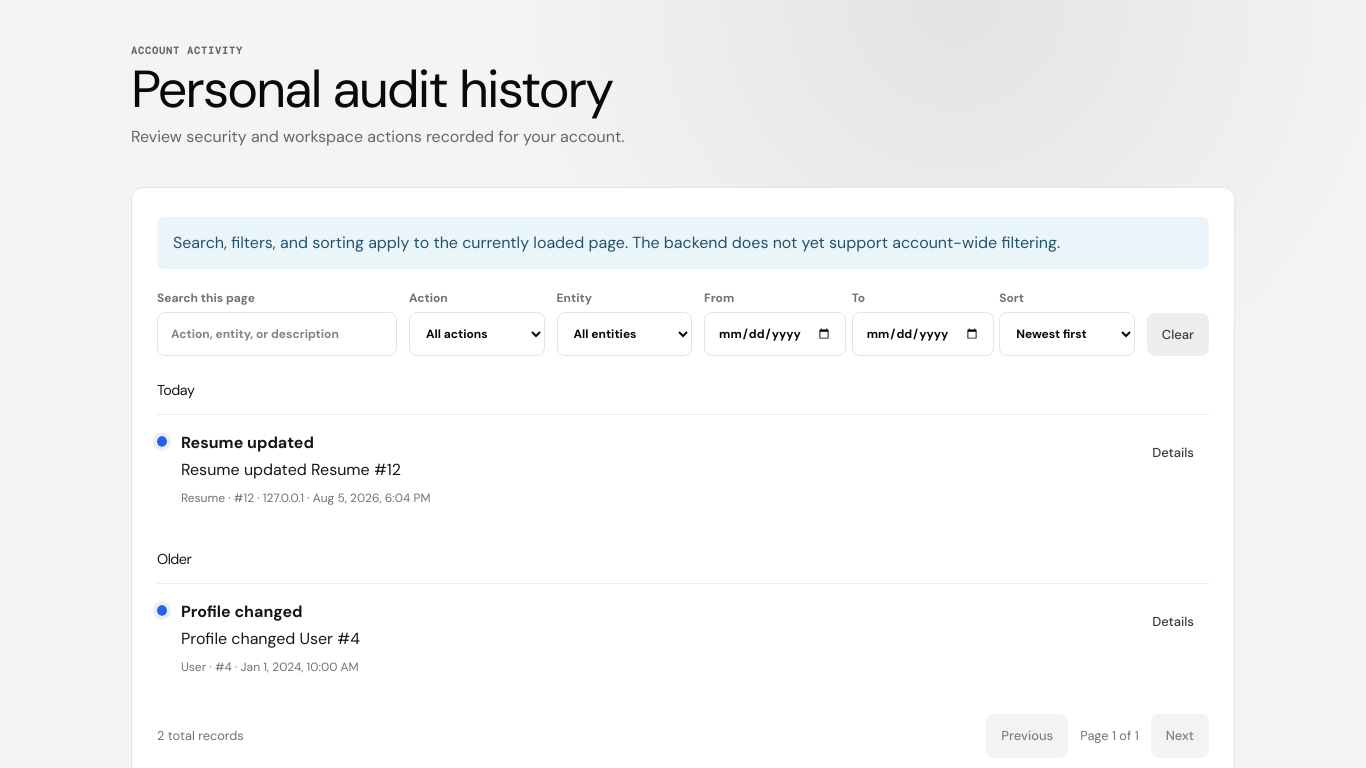
Test: personal audit history › filters only the currently loaded page and reports no matches
Step 1. Type "missing" into the search field with placeholder "Action, entity, or description" → (277, 334), box top-left (157, 312), bottom-right (397, 356)
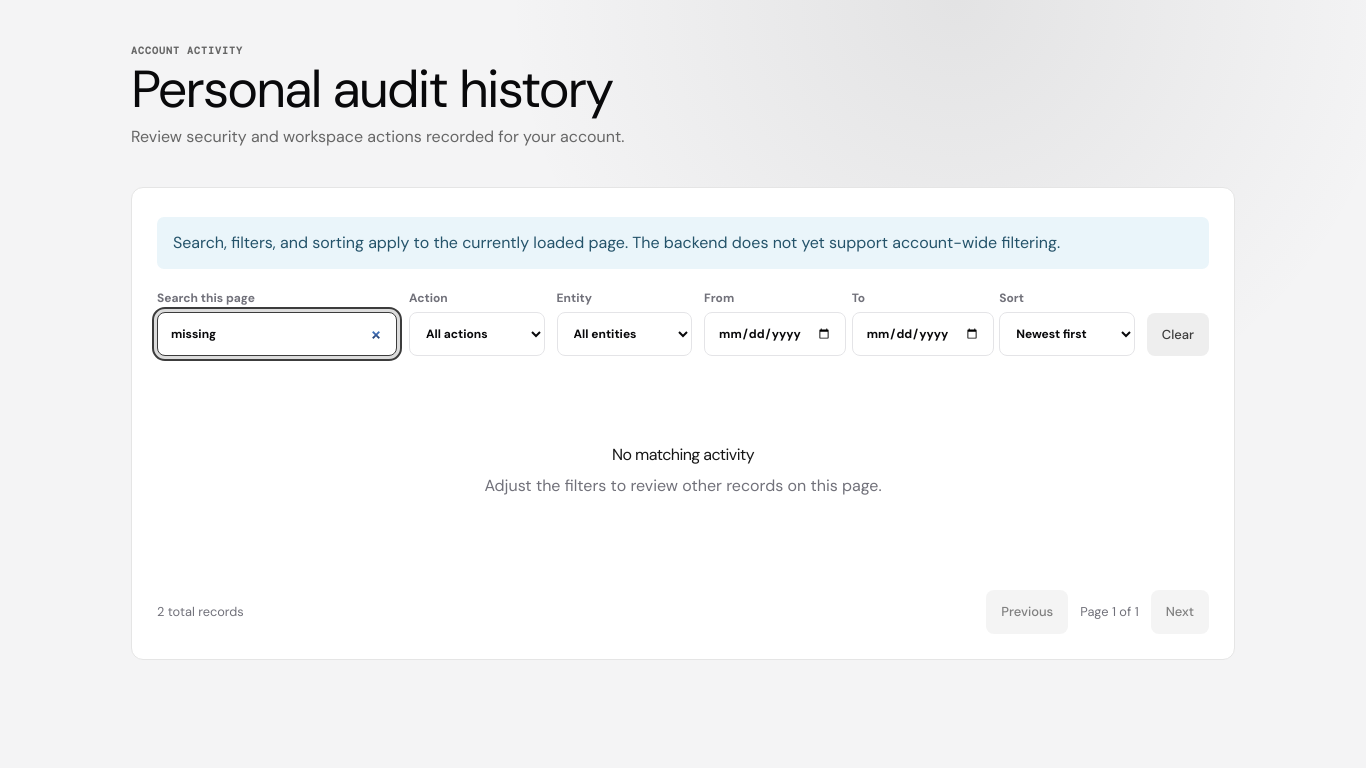
expect the text "currently loaded page" is shown: met, box top-left (173, 232), bottom-right (1060, 253)
expect the heading "No matching activity" is shown: met, box top-left (612, 443), bottom-right (754, 467)
